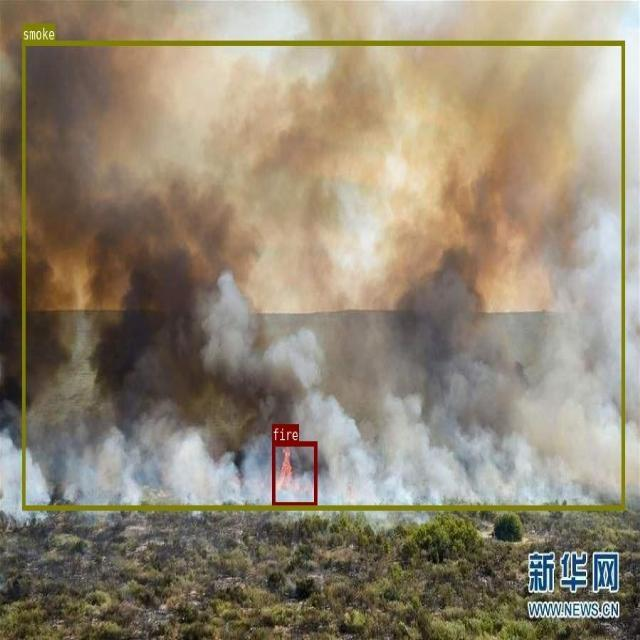fire: (272, 441, 317, 506)
smoke: (22, 40, 624, 510)
